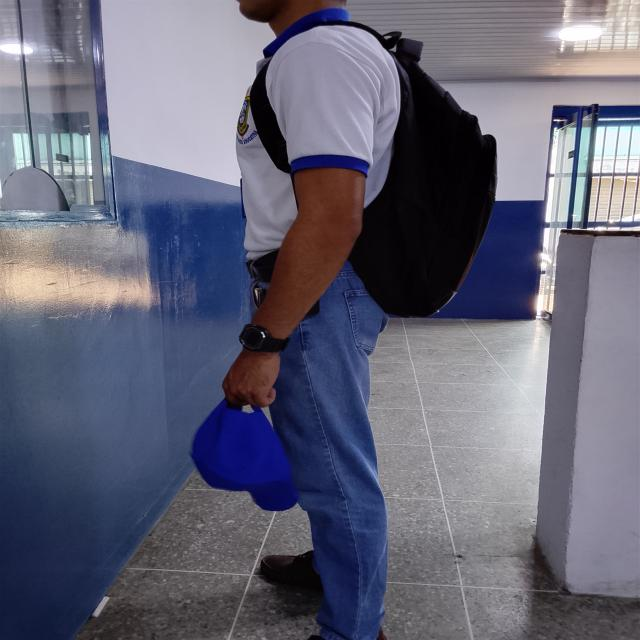uniforme_superior: (235, 7, 402, 260)
